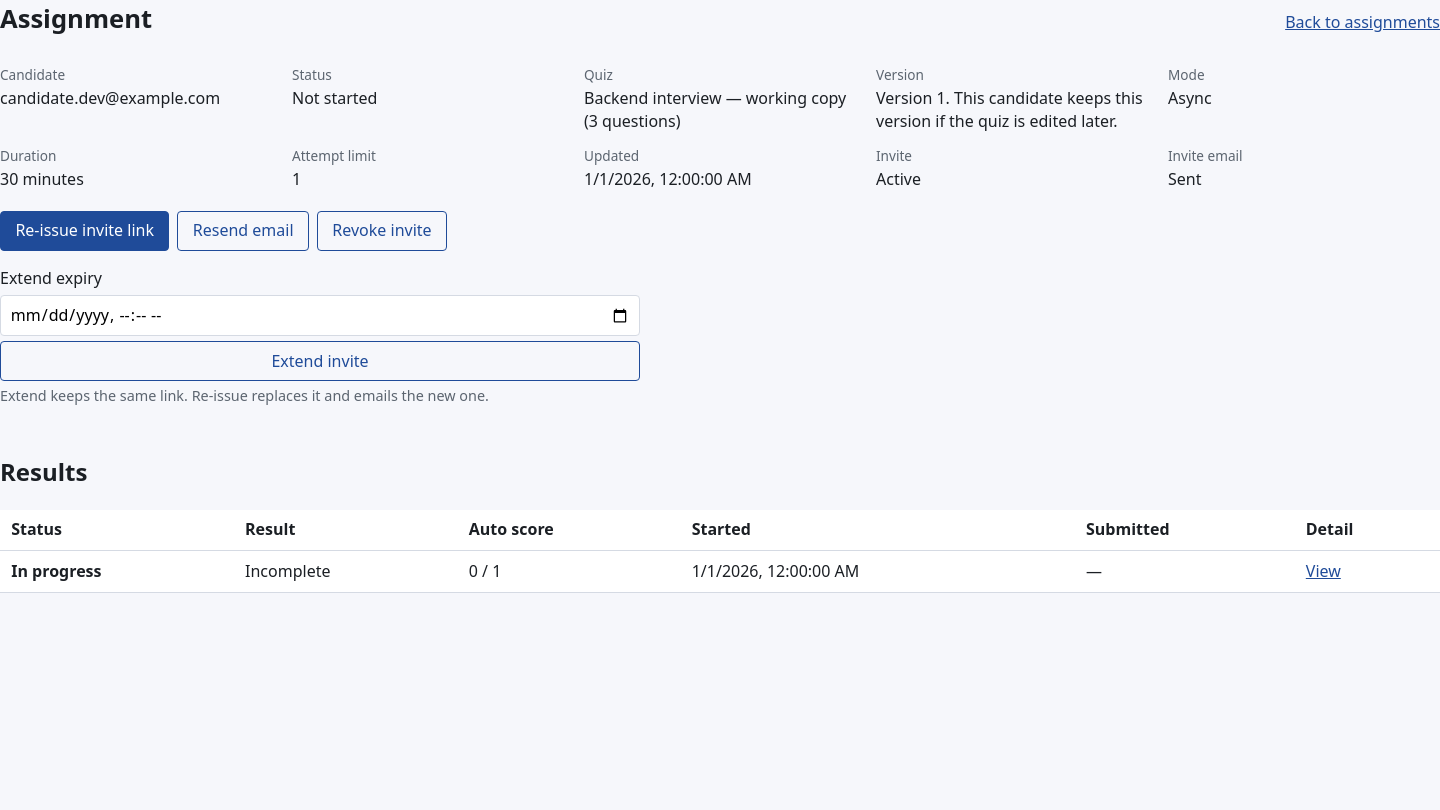
AssignmentDetail › asks before replacing an invite that is already active
Click the button "Re-issue invite link" at (85, 231), box 0,211 -> 169,251
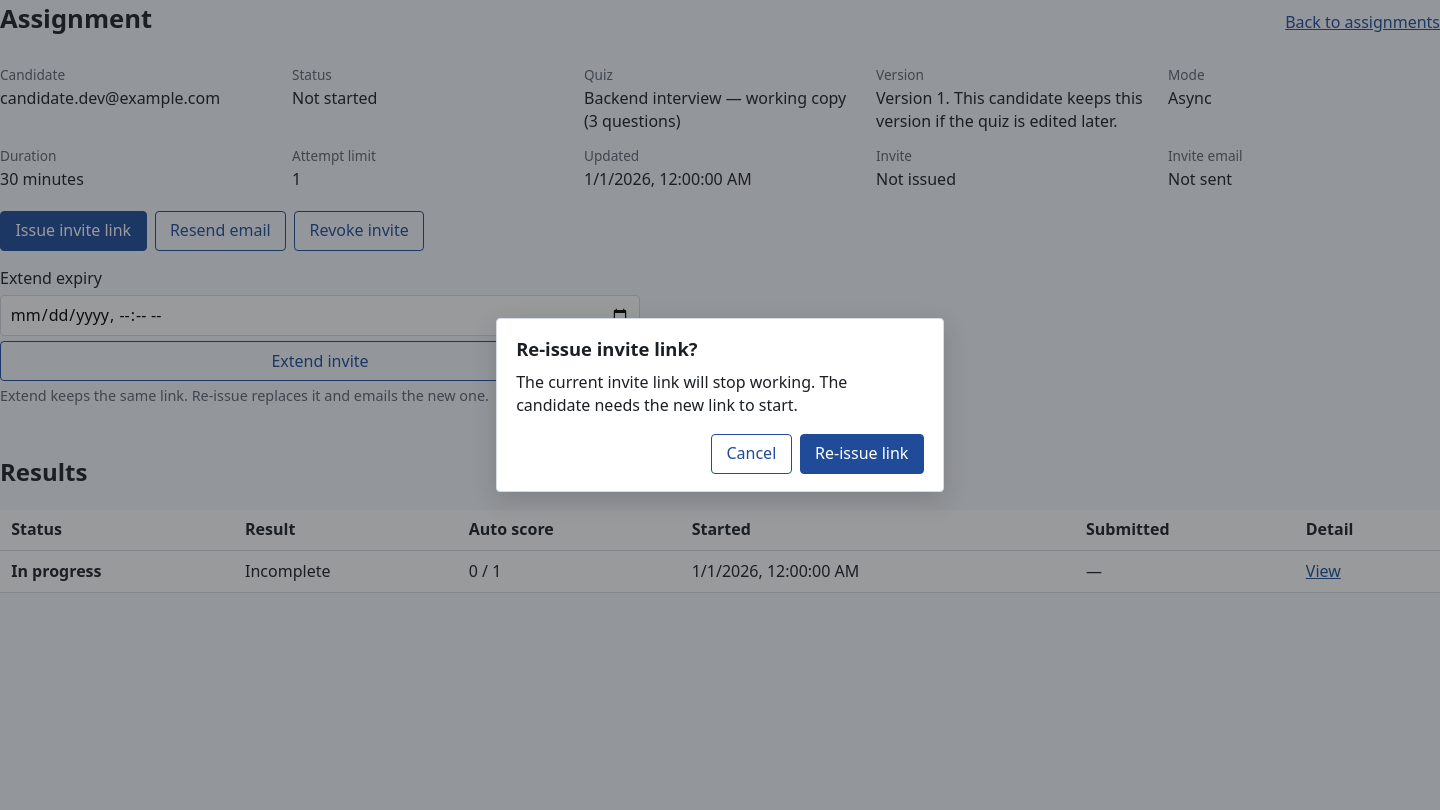
Now the dialog shows "will stop working", box 516,371 -> 847,416
